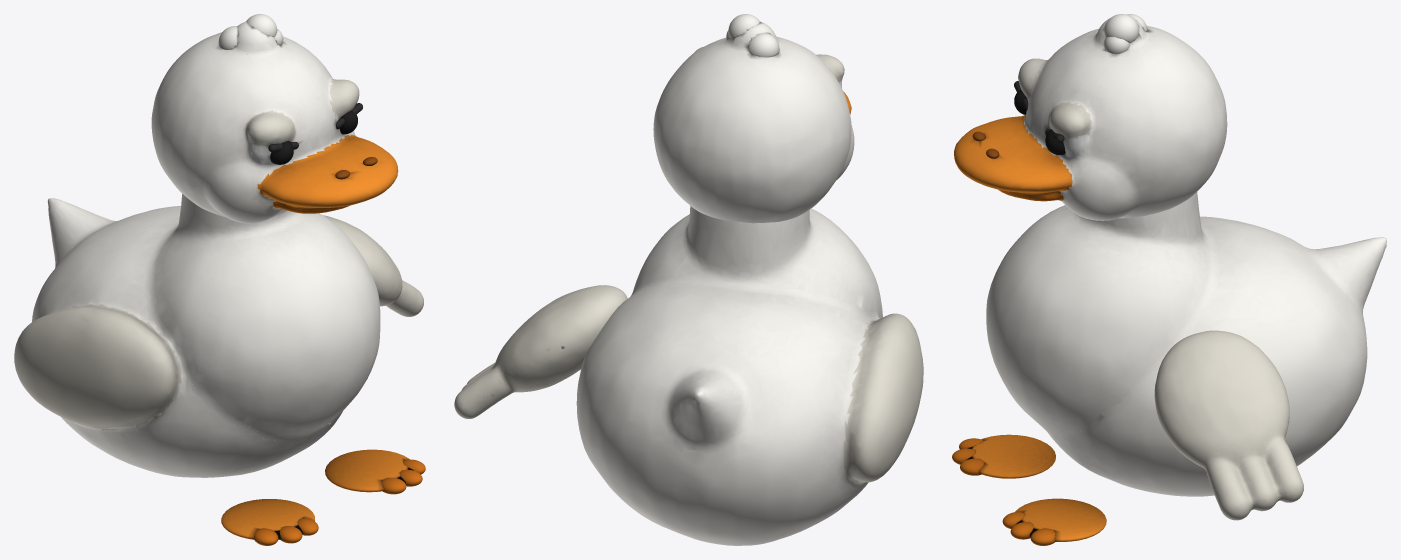
The model's file is kan-du-skicka-det-pa-mejl.glb.
The picture shows the model from 3 angles, left to right: view 1: azimuth 30°, elevation 25°; view 2: azimuth 150°, elevation 25°; view 3: azimuth 270°, elevation 25°; orthographic projection. The views are drawn at different scales.
Parts seen in each view (by area): view 1: pata__r0, cabeca__r0, asa__r0, pata__r8, pata__r4; view 2: pata__r0, cabeca__r0, asa__r0, cabeca__r5; view 3: pata__r0, cabeca__r0, asa__r0, pata__r4, pata__r8, cabeca__r6.
Boxes of the visible parts, x1,y1,x2,y2 form: pata__r0: [14, 194, 380, 477]; cabeca__r0: [151, 21, 398, 223]; asa__r0: [323, 215, 423, 316]; pata__r8: [325, 449, 413, 492]; pata__r4: [221, 499, 314, 539]; pata__r0: [576, 206, 923, 545]; cabeca__r0: [653, 21, 854, 223]; asa__r0: [454, 285, 627, 418]; cabeca__r5: [748, 33, 779, 57]; pata__r0: [986, 192, 1386, 496]; cabeca__r0: [954, 17, 1227, 220]; asa__r0: [1154, 330, 1303, 520]; pata__r4: [966, 434, 1055, 478]; pata__r8: [1015, 498, 1106, 541]; cabeca__r6: [1104, 14, 1139, 42].
Bounding box in the file's own units: 1.36 × 1.48 × 1.23.
